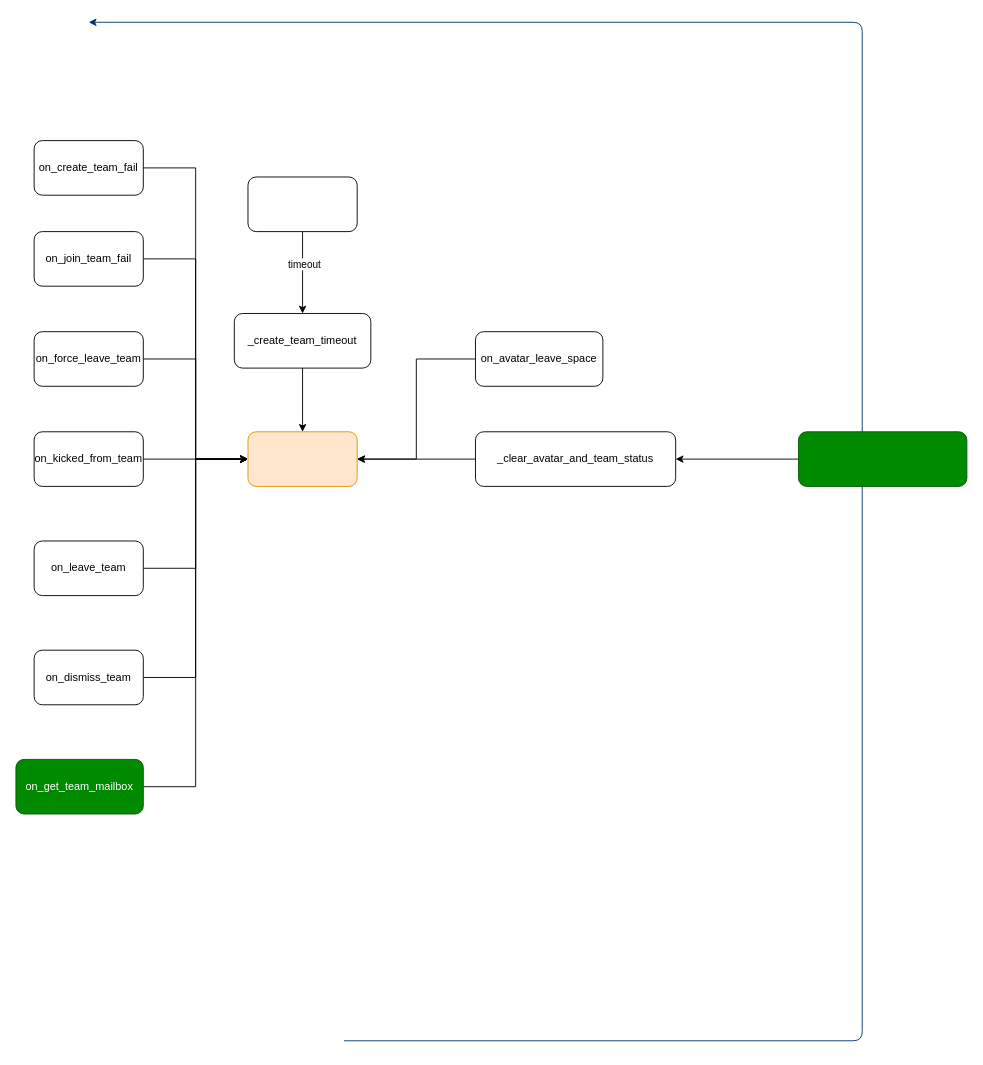
The diagram is 983 pixels wide and 1065 high, and some of its shapes have lost their labels. Each missing label, with the centre of its shape:
"_reset_team_state" goes at point 302,458.
"create_camp_team" goes at point 302,204.
"on_match_room_destroyed" goes at point 882,458.
